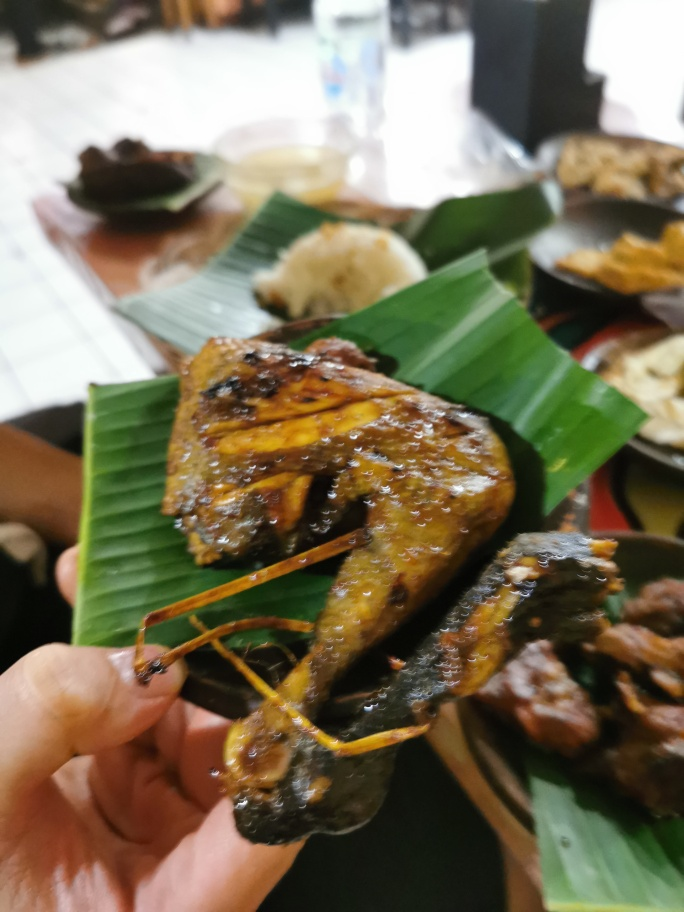ayam bakar: (170, 335, 620, 849)
